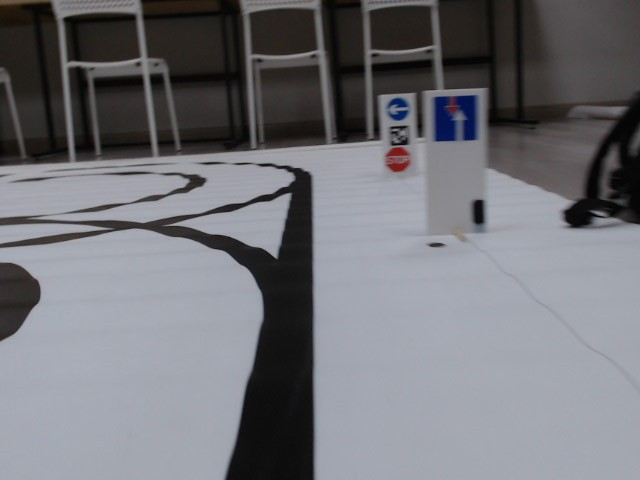Stop: (383, 146, 413, 173)
priority_movement: (430, 95, 482, 141)
